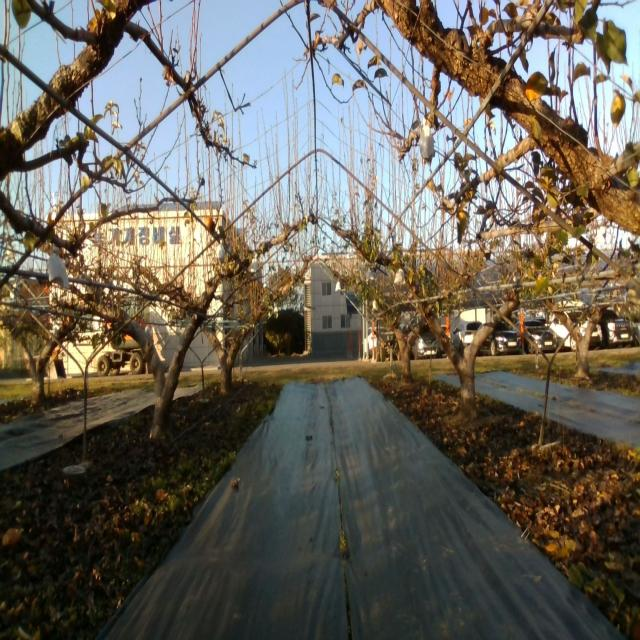pearbags: (46, 247, 70, 291), (419, 116, 434, 168), (394, 268, 406, 286)
